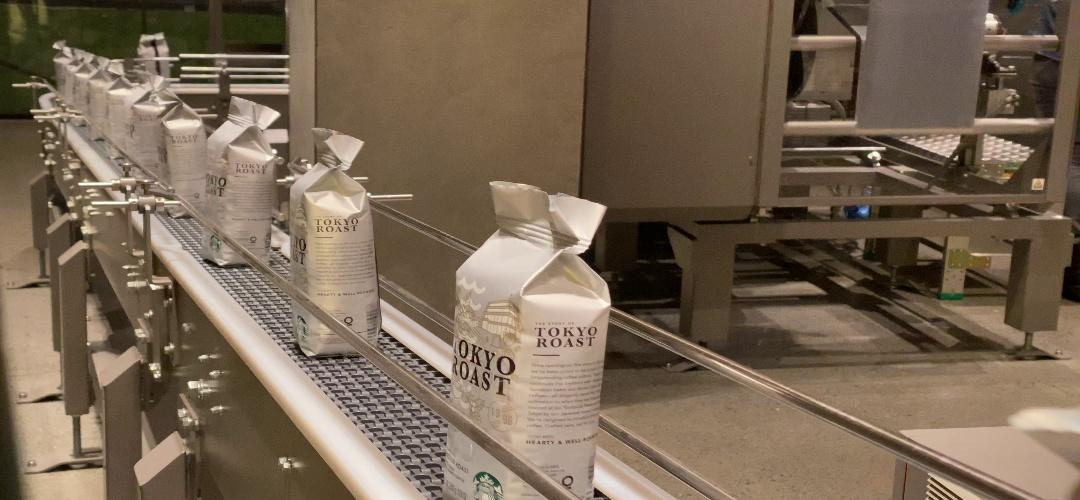conveyor: (453, 273, 602, 403), (290, 189, 375, 276), (205, 140, 274, 213), (158, 124, 202, 175)
